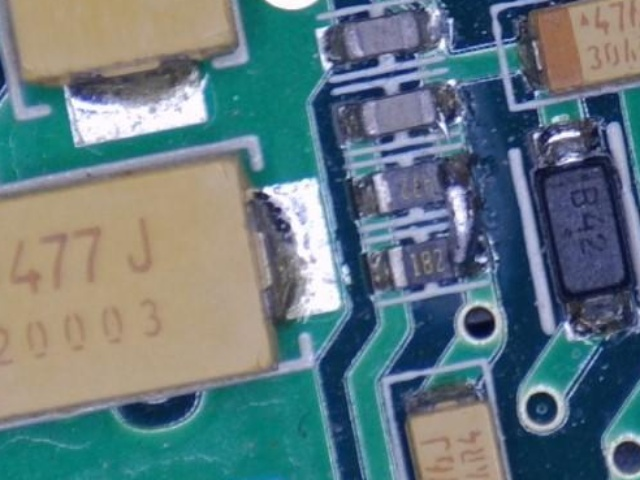pcb_defect: (426, 153, 492, 278)
